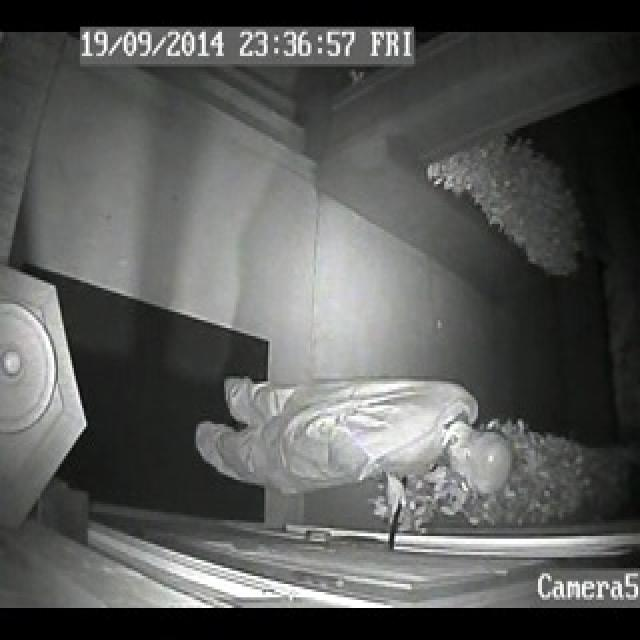burglary: (198, 364, 508, 562)
